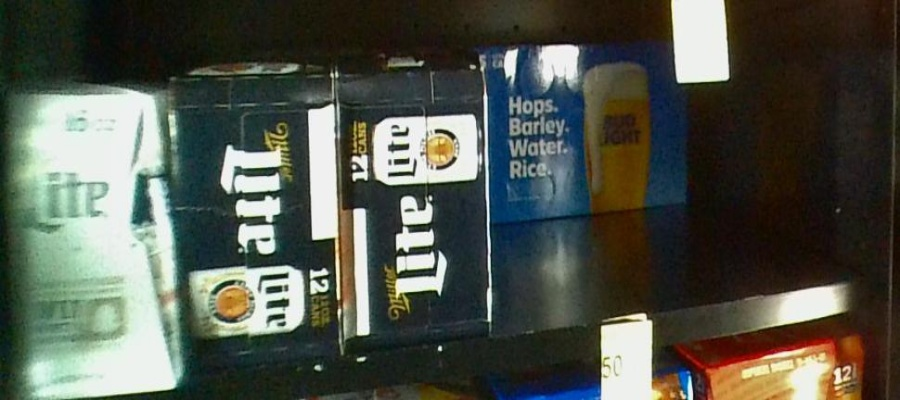bottle: (1, 91, 179, 392), (167, 68, 340, 366), (336, 59, 491, 342), (483, 39, 687, 210)
